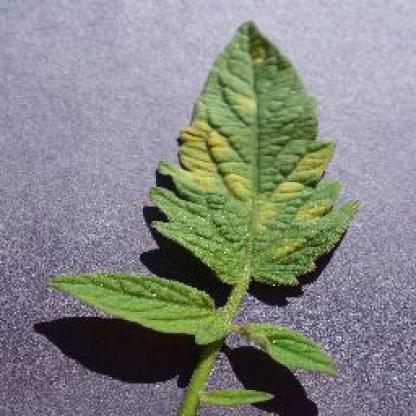bad leaf: (186, 35, 342, 273)
